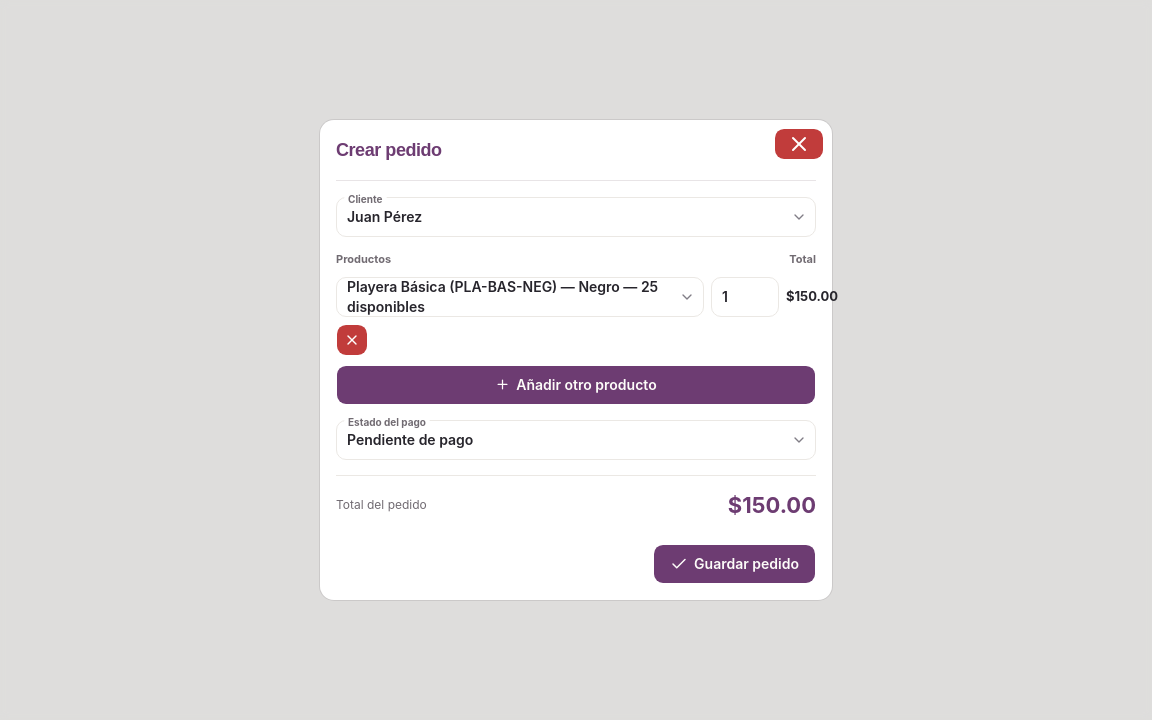
OrderModal › Añadir/quitar productos › debería añadir una nueva línea al hacer clic en "Añadir otro producto"
Expected: the number of buttons named "Quitar producto" is 1, x1=336 y1=324 x2=368 y2=356
Click the button "Añadir otro producto".
click(576, 385)  # box x1=336 y1=365 x2=816 y2=405
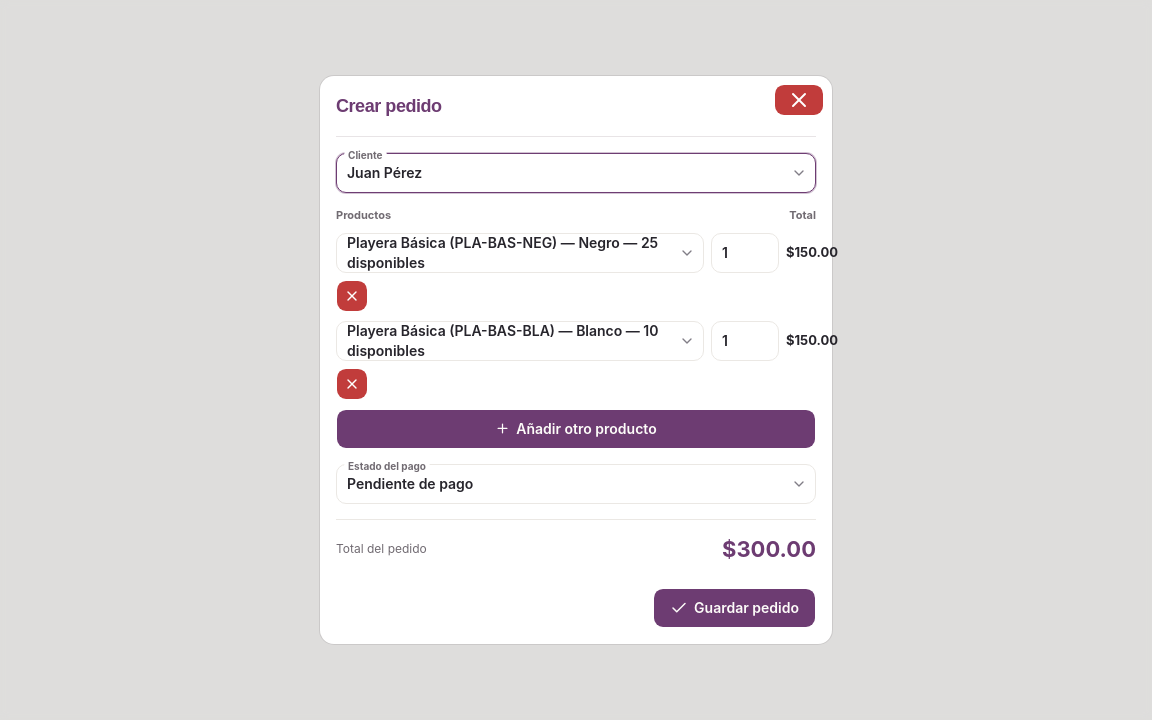
Result: the number of buttons named "Quitar producto" is 2 at x1=336 y1=280 x2=368 y2=312; x1=336 y1=368 x2=368 y2=400
